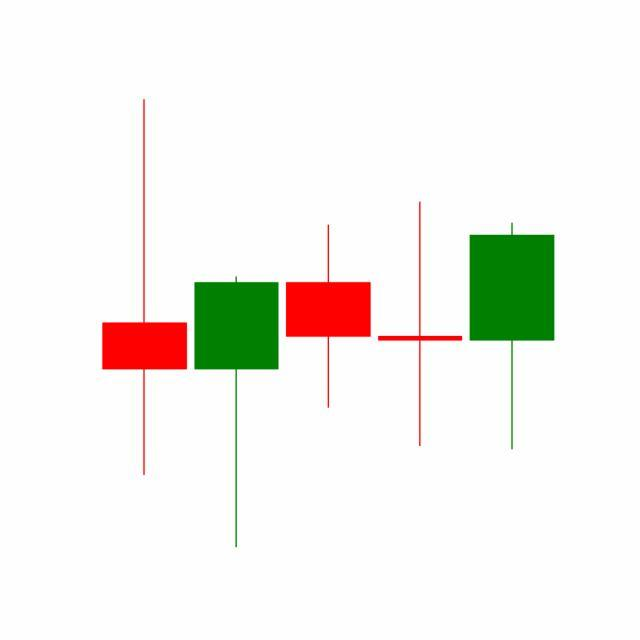Spinning Top: (374, 200, 468, 451)
